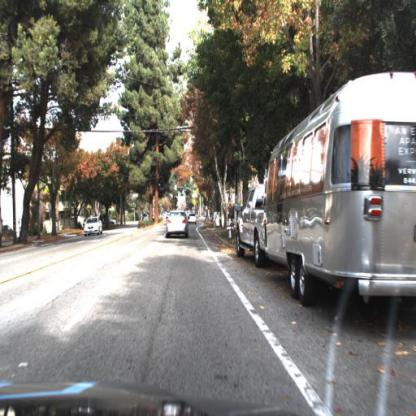car: (156, 203, 194, 245), (78, 208, 106, 241), (81, 212, 104, 238), (184, 205, 199, 226)
truck: (231, 66, 415, 324)
